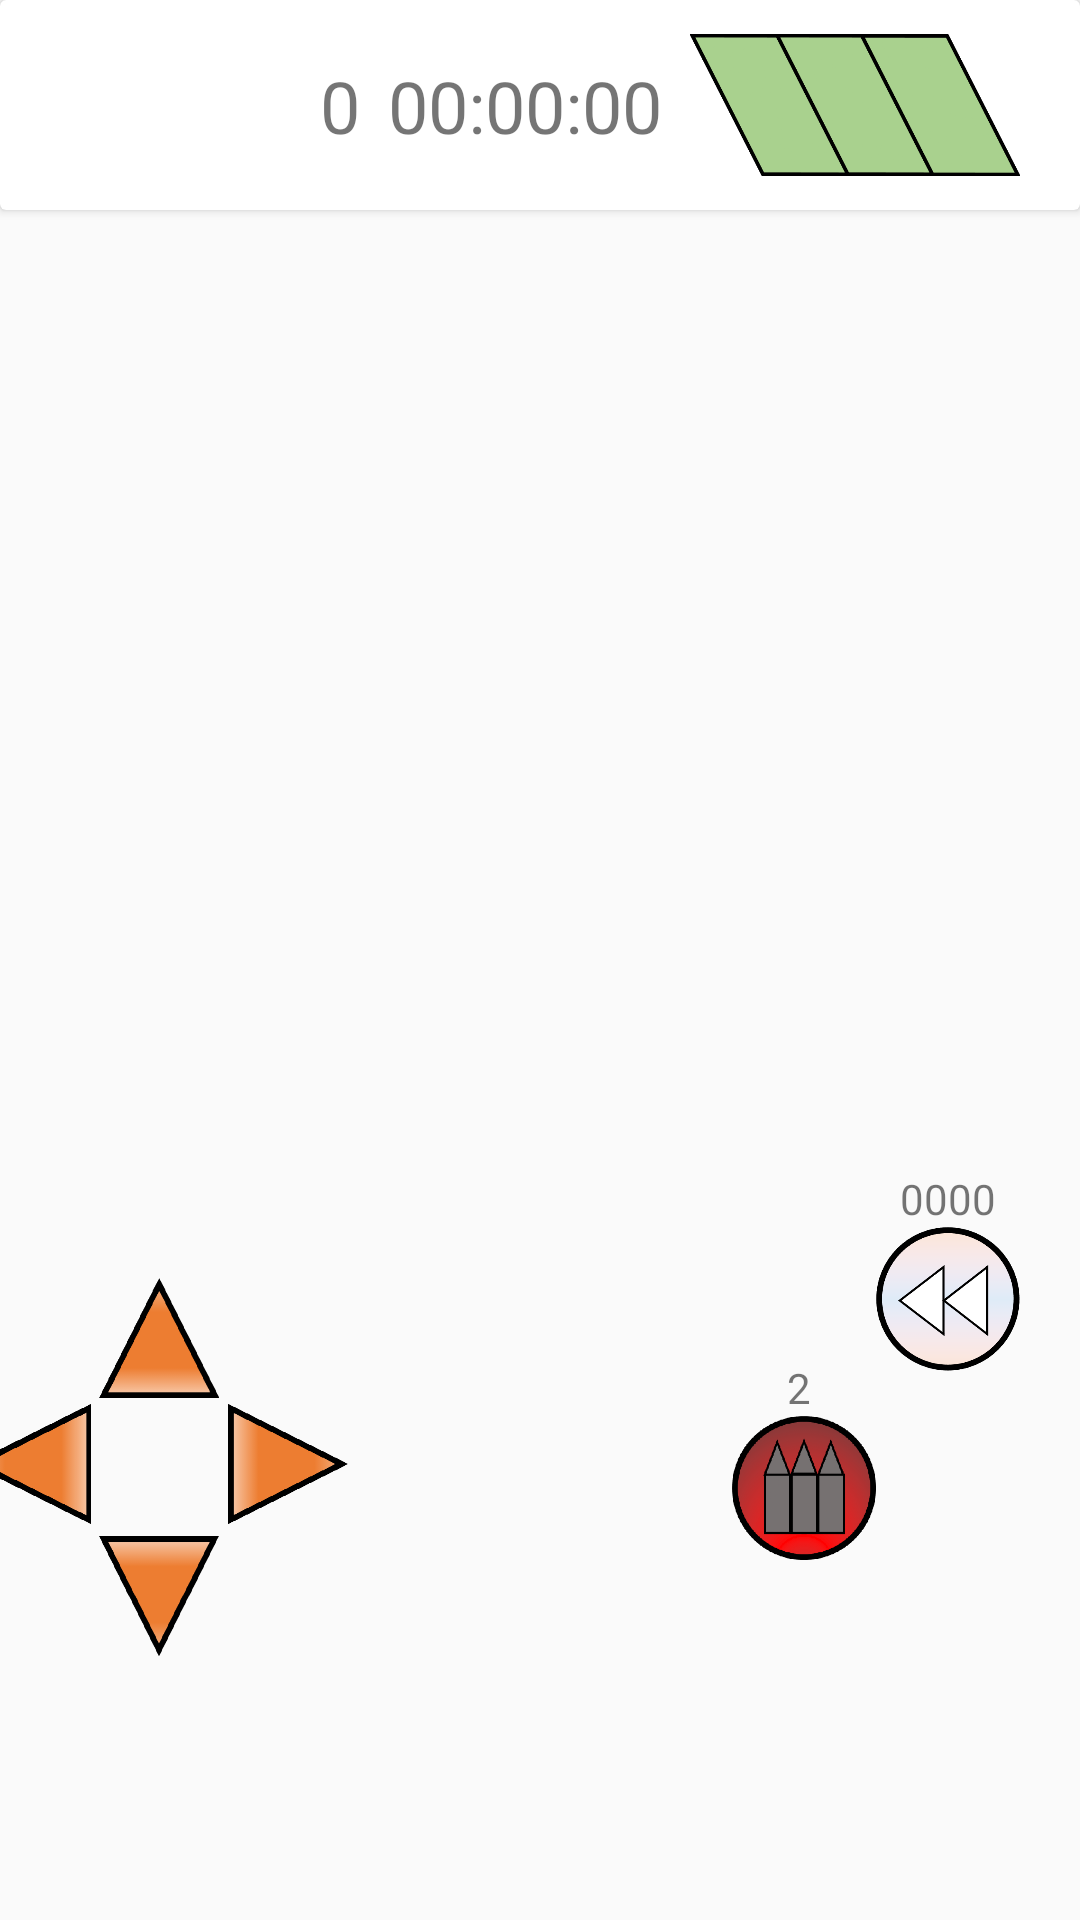

Named icons in this screenshot (1080px×1920px) and their bounding boxes, (x1, y1, x2, y2):
down: (99, 1536, 219, 1656)
full health: (690, 34, 1020, 176)
right: (228, 1404, 348, 1524)
slow: (876, 1227, 1020, 1371)
